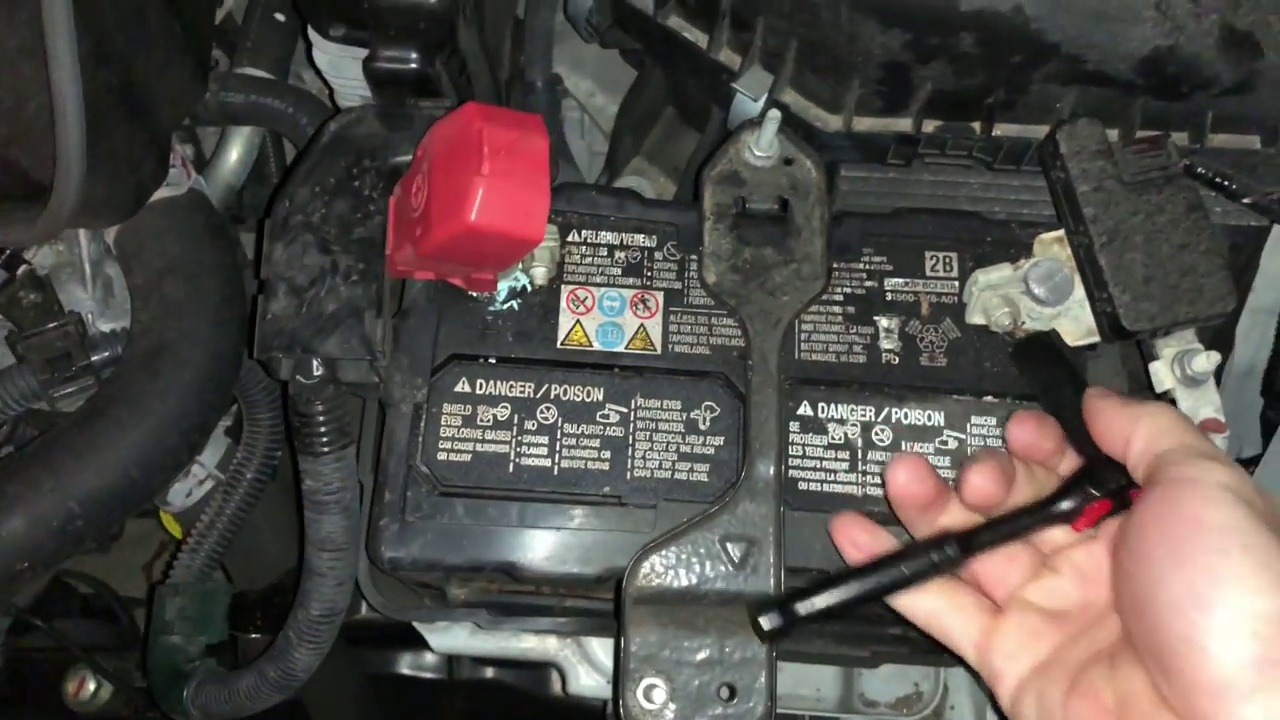battery: (384, 139, 1161, 651)
neg_connected: (937, 196, 1136, 366)
neg_touched: (952, 202, 1236, 568)
pos_connected: (385, 96, 584, 302)
